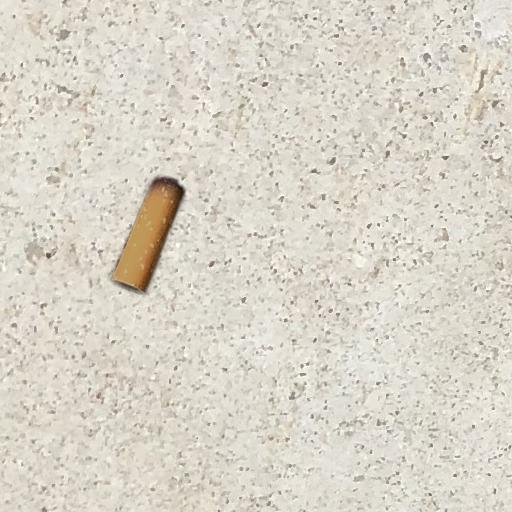smoke: (113, 178, 184, 293)
